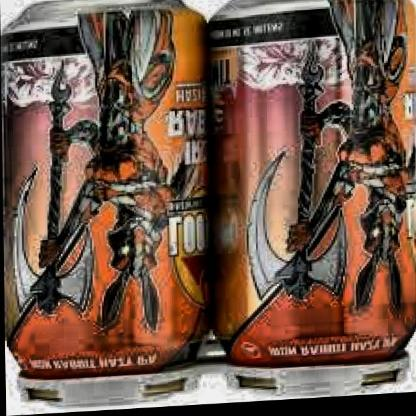Can: (0, 0, 211, 416), (206, 0, 416, 404)
